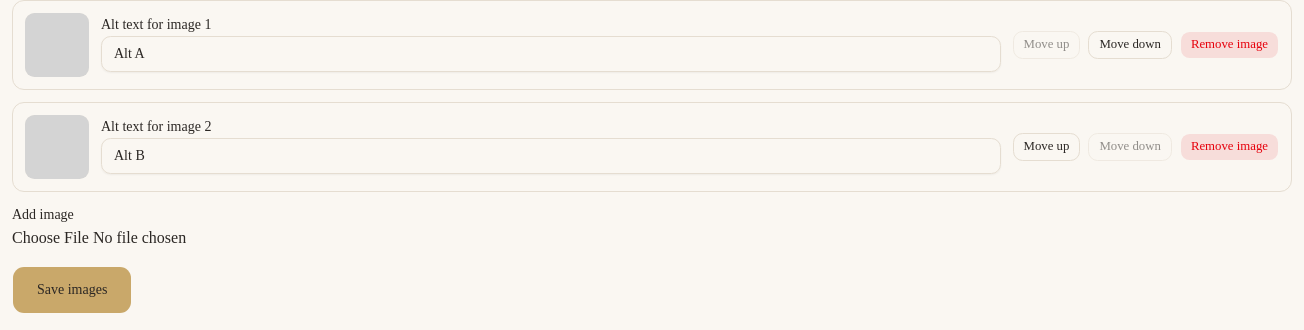
it: ImageManager › edit mode: moving an image down reorders the list
This screenshot has width=1304, height=330.
Click the 1st button "Move down". click: (1130, 45)
box: [1088,31,1172,59]
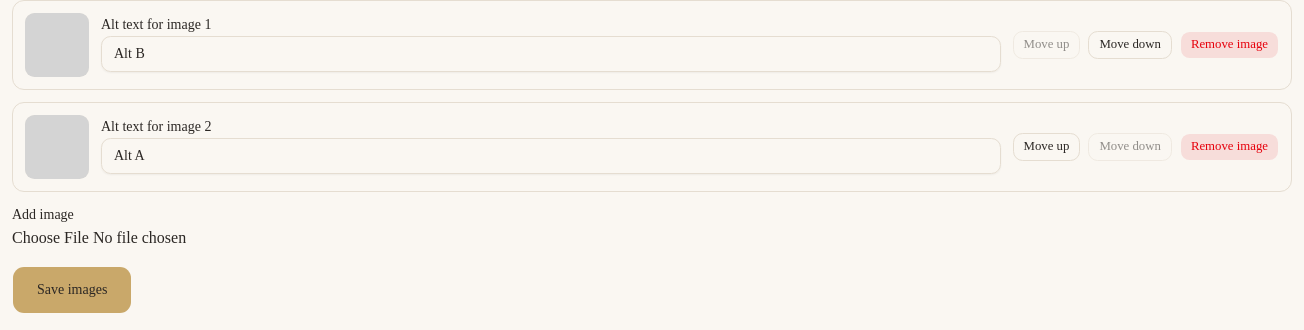
expect the field labelled "Alt text for image 1" holds "Alt B": met, box [101,36,1000,72]
expect the field labelled "Alt text for image 2" holds "Alt A": met, box [101,138,1000,174]
